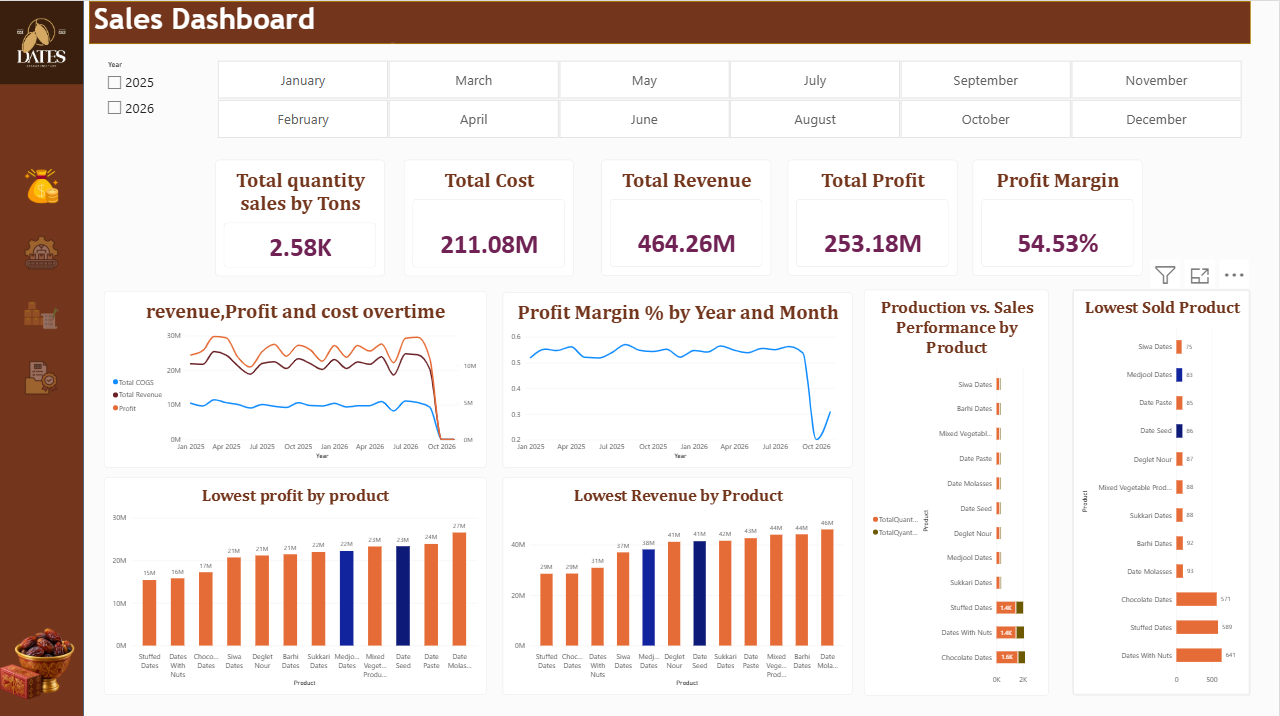

The dashboard page shown, as its layout file describes it:
{"tool":"powerbi","page":{"name":"Sales Overview","canvas":[1920,1080],"ordinal":0},"visuals":[{"type":"shape","box":[180,0,1741,85],"z":0},{"type":"shape","box":[0,0,170,1081],"z":1000},{"type":"image","box":[0,0,169.9,166.4],"z":2000},{"type":"textbox","title":"Sales Dashboard","box":[190.1,0,602.5,85],"z":3000},{"type":"lineChart","title":"revenue,Profit and cost overtime","fields":{"Category":["DateDim.Date.Variation.Date Hierarchy.Year","DateDim.Date.Variation.Date Hierarchy.Month"],"Y":["MyMeasures.Total COGS","MyMeasures.Total Revenue"],"Y2":["MyMeasures.Profit"]},"box":[196.7,355,1021.7,323.3],"z":4000},{"type":"cardVisual","title":"Total Cost","fields":{"Data":["MyMeasures.Total COGS"]},"box":[568,124,340,180],"z":5000},{"type":"image","box":[0,844.2,150,235.7],"z":6000},{"type":"slicer","title":"Year","fields":{"Values":["DateDim.Date.Variation.Date Hierarchy.Year"]},"box":[1325,115,360,177.5],"z":7000},{"type":"barChart","title":"Lowest Sold Product","fields":{"Category":["productDim.Product"],"Y":["MyMeasures.TotalSale"]},"box":[1300,355,597.5,697.5],"z":8000},{"type":"cardVisual","title":"Total quantity sales by Tons","fields":{"Data":["MyMeasures.TotalSale"]},"box":[199.6,124.4,340,180],"z":9000},{"type":"cardVisual","title":"Total Revenue","fields":{"Data":["MyMeasures.Total Revenue"]},"box":[944,124,340,180],"z":10000},{"type":"lineChart","fields":{"Category":["DateDim.Date.Variation.Date Hierarchy.Year","DateDim.Date.Variation.Date Hierarchy.Month"],"Y":["MyMeasures.Profit Margin %"]},"box":[196,734,1022,320],"z":11000},{"type":"actionButton","box":[50.6,190.1,69.8,102.9],"z":12000},{"type":"actionButton","box":[50.6,319.2,69.8,102],"z":13000},{"type":"actionButton","box":[50.6,453.5,69.8,102],"z":14000},{"type":"actionButton","box":[50.6,577.3,69,102],"z":15000},{"type":"actionButton","box":[50.6,702.9,69,102],"z":16000},{"type":"slicer","title":"Month","fields":{"Values":["DateDim.Date.Variation.Date Hierarchy.Month"]},"box":[1731.1,100.9,189.4,191.4],"z":17000}]}

Visuals, with their boxes on the page's 1920x1080 design canvas (x1, y1, x2, y2). These are canvas units, not pixel positions in the 1280x716 screenshot, which may show the page scaled, cropped or inside an application window:
shape: 180/0/1921/85
shape: 0/0/170/1081
image: 0/0/170/166
"Sales Dashboard" textbox: 190/0/793/85
"revenue,Profit and cost overtime" lineChart: 197/355/1218/678
"Total Cost" cardVisual: 568/124/908/304
image: 0/844/150/1080
"Year" slicer: 1325/115/1685/292
"Lowest Sold Product" barChart: 1300/355/1898/1052
"Total quantity sales by Tons" cardVisual: 200/124/540/304
"Total Revenue" cardVisual: 944/124/1284/304
lineChart - DateDim.Date.Variation.Date Hierarchy.Year x DateDim.Date.Variation.Date Hierarchy.Month: 196/734/1218/1054
actionButton: 51/190/120/293
actionButton: 51/319/120/421
actionButton: 51/454/120/556
actionButton: 51/577/120/679
actionButton: 51/703/120/805
"Month" slicer: 1731/101/1920/292
